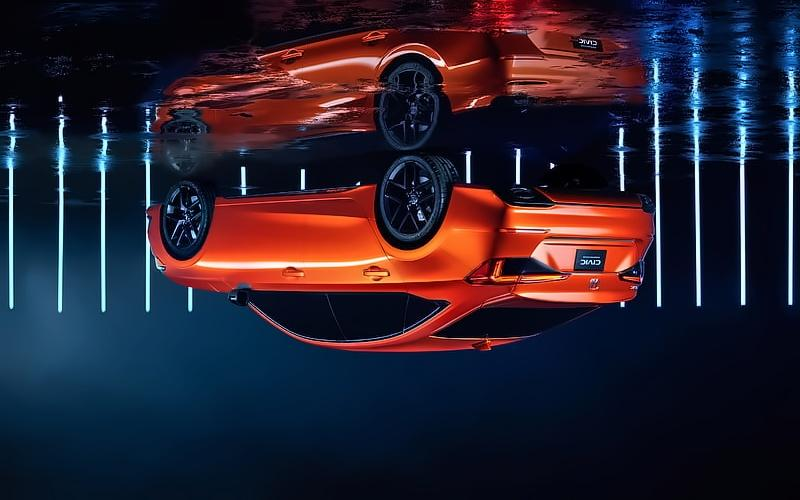Car boot: (482, 226, 644, 319)
Driver-s door - -F-R-: (228, 197, 341, 348)
Fender - -F-R-: (176, 194, 228, 291)
Fender - -R-R-: (369, 183, 476, 297)
Front bumper: (136, 201, 174, 258)
Headlight - -R-: (147, 244, 167, 275)
Passenger-s door - -R-R-: (319, 198, 411, 348)
Rear bumper: (439, 179, 660, 260)
Rear light - -L-: (618, 256, 651, 290)
Rear light - -R-: (462, 250, 572, 286)
Side bumper - -R-: (206, 180, 381, 212)
Side mirror - -R-: (225, 276, 269, 310)
